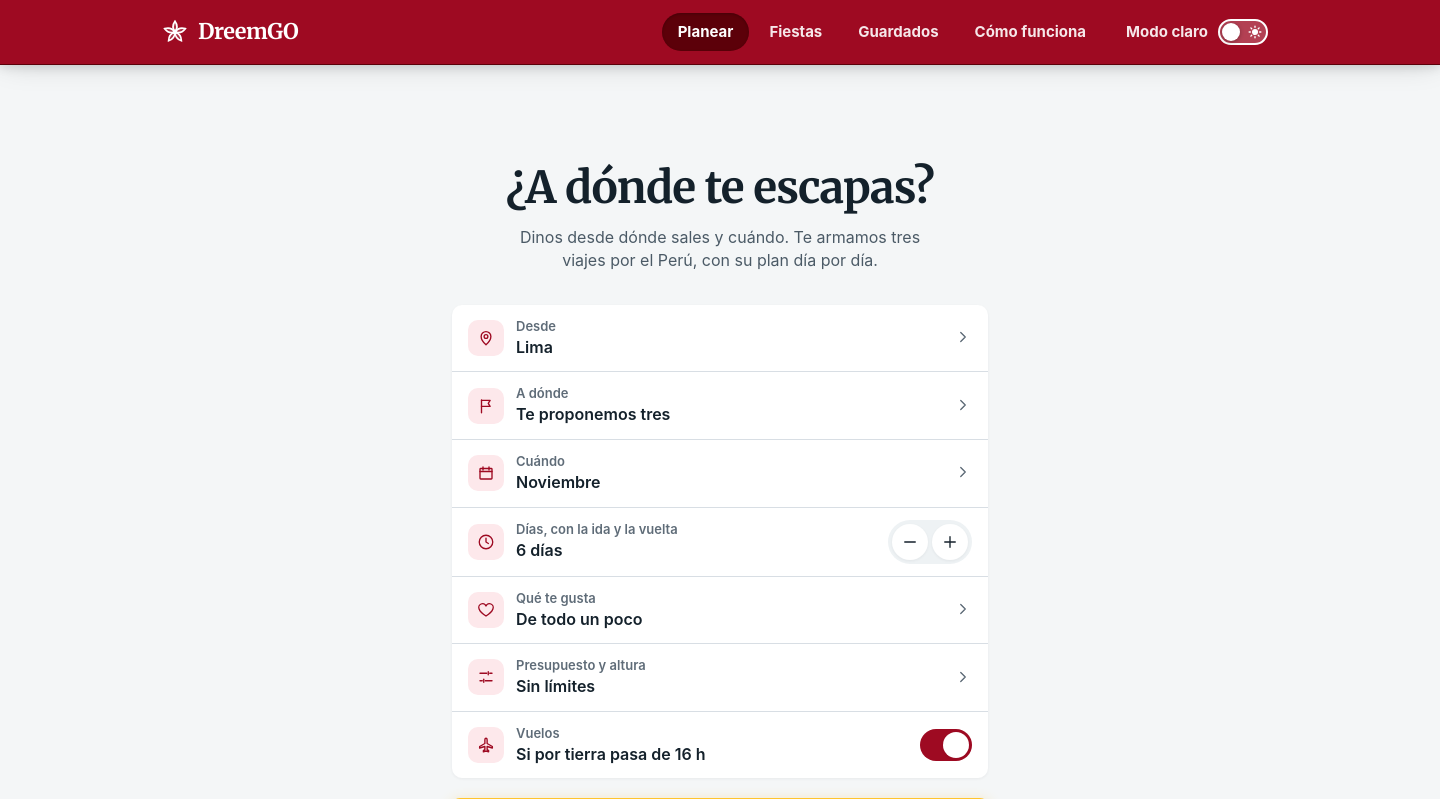
it: el formulario › «A dónde» propone tres viajes; sin nada escrito, sugiere zonas de imperdibles fuera de tu ciudad
(page scrolled)
Expected: the button "Desde Lima" is shown, [452, 305, 988, 371]
Click the button "A dónde Te proponemos tres" at (486, 406), box [452, 371, 988, 439]
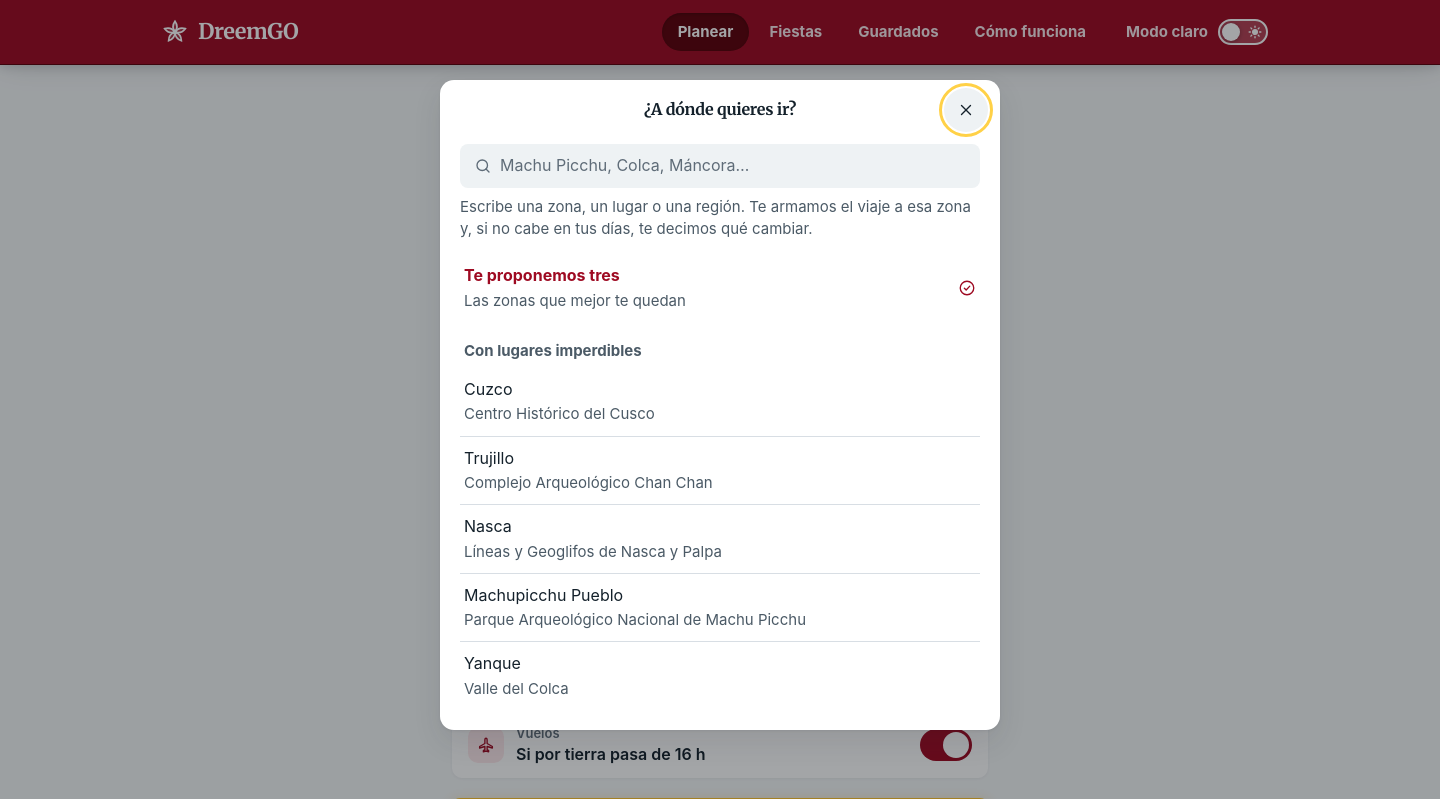
Expected: the button "Te proponemos tres Las zonas que mejor te quedan" is shown, [460, 254, 980, 322]
